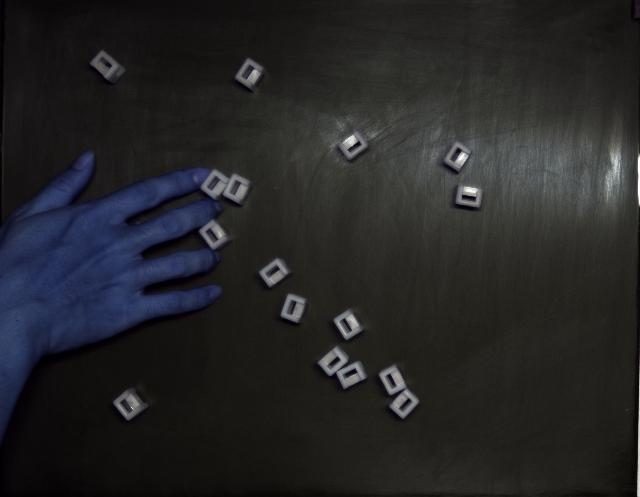fourth_side: (90, 50, 125, 84), (112, 389, 149, 421), (235, 59, 266, 91), (318, 345, 349, 376), (199, 220, 231, 250), (338, 131, 369, 161), (222, 174, 252, 205), (334, 309, 364, 340), (259, 259, 291, 288), (336, 361, 368, 390), (389, 389, 419, 419), (200, 169, 229, 200), (444, 141, 472, 172), (379, 364, 406, 396), (280, 294, 308, 324), (455, 185, 482, 208)
